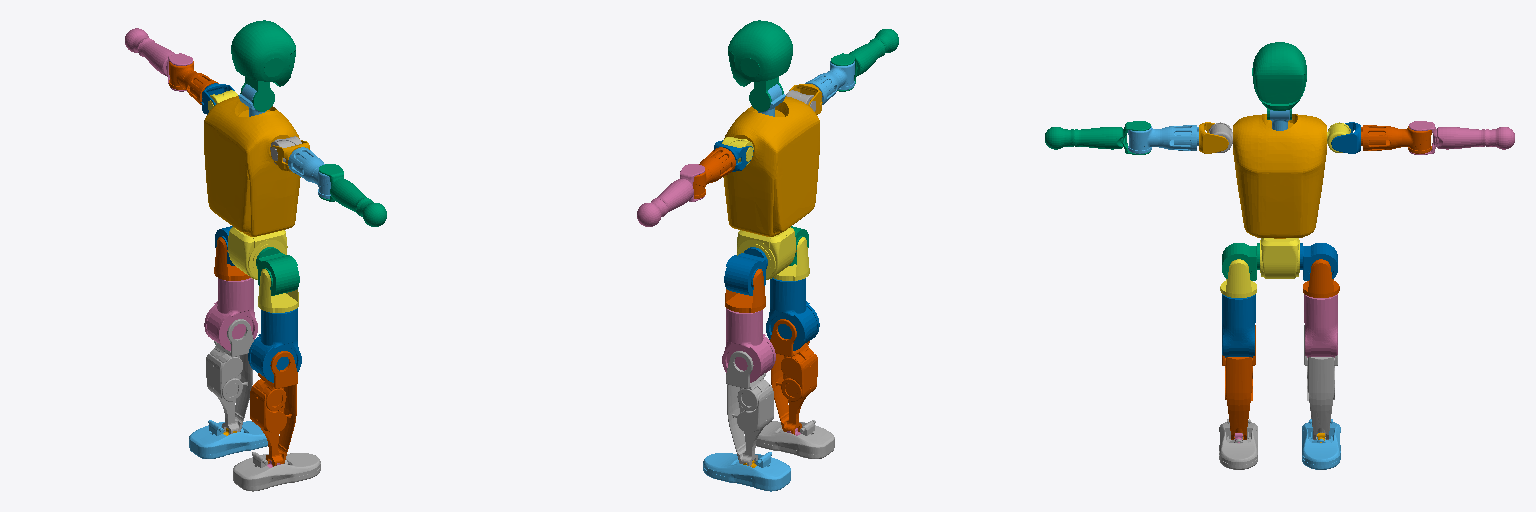
URDF robot description (t1):
<?xml version="1.0"?>

<robot name="t1">
	<link name="Trunk">
		<inertial>
			<origin xyz="0.0551365401093076 -1.42058017623659E-06 0.105062332707657"/>
			<mass value="11.7"/>
			<inertia
					ixx="0.0915287235057927"
					ixy="-4.25369739206781E-07"
					ixz="0.000646360369011163"
					iyy="0.076778716903413"
					iyz="5.82340020271393E-07"
					izz="0.0556171053368987"/>
		</inertial>
		<visual>
			<geometry>
				<mesh filename="../meshes/Trunk.obj"/>
			</geometry>
		</visual>
		<collision>
			<origin xyz="0.06 0 0.12"/>
			<geometry>
				<box size="0.15 0.2 0.3"/>
			</geometry>
		</collision>
	</link>
	<link name="H1">
		<inertial>
			<origin xyz="-0.000508 -0.001403 0.057432"/>
			<mass value="0.443910"/>
			<inertia
					ixx="0.000224"
					ixy="0.000003"
					ixz="0.000001"
					iyy="0.000241"
					iyz="-0.000002"
					izz="0.000150"/>
		</inertial>
		<visual>
			<geometry>
				<mesh filename="../meshes/H1.obj"/>
			</geometry>
		</visual>
	</link>
	<joint name="AAHead_yaw" type="revolute">
		<origin xyz="0.0625 0 0.243"/>
		<parent link="Trunk"/>
		<child link="H1"/>
		<axis xyz="0 0 1"/>
		<limit lower="-1.57" upper="1.57" effort="7" velocity="12.56"/>
	</joint>
	<link name="H2">
		<inertial>
			<origin xyz="0.007802 0.001262 0.098631"/>
			<mass value="0.631019"/>
			<inertia
					ixx="0.002025"
					ixy="-0.000025"
					ixz="0.000046"
					iyy="0.001920"
					iyz="0.000036"
					izz="0.001739"/>
		</inertial>
		<visual>
			<geometry>
				<mesh filename="../meshes/H2.obj"/>
			</geometry>
		</visual>
		<collision>
			<origin xyz="0.01 0 0.11"/>
			<geometry>
				<sphere radius="0.08"/>
			</geometry>
		</collision>
	</link>
	<joint name="Head_pitch" type="revolute">
		<origin xyz="0 0 0.06185"/>
		<parent link="H1"/>
		<child link="H2"/>
		<axis xyz="0 1 0"/>
		<limit lower="-0.35" upper="1.22" effort="7" velocity="12.56"/>
	</joint>
	<link name="AL1">
		<inertial>
			<origin xyz="-0.000677 0.044974 0.000000"/>
			<mass value="0.53"/>
			<inertia
					ixx="0.001293"
					ixy="-0.000017"
					ixz="0.000000"
					iyy="0.000293"
					iyz="0.000000"
					izz="0.001367"/>
		</inertial>
		<visual>
			<geometry>
				<mesh filename="../meshes/AL1.obj"/>
			</geometry>
		</visual>
	</link>
	<joint name="Left_Shoulder_Pitch" type="revolute">
		<origin xyz="0.0575 0.1063 0.219" rpy="0 0.00088113 0"/>
		<parent link="Trunk"/>
		<child link="AL1"/>
		<axis xyz="0 1 0"/>
		<limit lower="-3.31" upper="1.22" effort="18" velocity="18.84"/>
	</joint>
	<link name="AL2">
		<inertial>
			<origin xyz="0.003862 0.037976 0.000000"/>
			<mass value="0.160"/>
			<inertia
					ixx="0.000345"
					ixy="0.000008"
					ixz="0.000000"
					iyy="0.000177"
					iyz="0.000000"
					izz="0.000401"/>
		</inertial>
		<visual>
			<geometry>
				<mesh filename="../meshes/AL2.obj"/>
			</geometry>
		</visual>
	</link>
	<joint name="Left_Shoulder_Roll" type="revolute">
		<origin xyz="0 0.047 0"/>
		<parent link="AL1"/>
		<child link="AL2"/>
		<axis xyz="1 0 0"/>
		<limit lower="-1.74" upper="1.57" effort="18" velocity="18.84"/>
	</joint>
	<link name="AL3">
		<inertial>
			<origin xyz="0.000000 0.085353 -0.000099"/>
			<mass value="1.02"/>
			<inertia
					ixx="0.012869"
					ixy="0.000000"
					ixz="0.000000"
					iyy="0.000621"
					iyz="-0.000024"
					izz="0.012798"/>
		</inertial>
		<visual>
			<geometry>
				<mesh filename="../meshes/AL3.obj"/>
			</geometry>
		</visual>
		<collision>
			<origin xyz="0 0.05 0" rpy="1.5708 0 0"/>
			<geometry>
				<cylinder radius="0.03" length="0.15"/>
			</geometry>
		</collision>
	</link>
	<joint name="Left_Elbow_Pitch" type="revolute">
		<origin xyz="0.00025 0.0605 0"/>
		<parent link="AL2"/>
		<child link="AL3"/>
		<axis xyz="0 1 0"/>
		<limit lower="-2.27" upper="2.27" effort="18" velocity="18.84"/>
	</joint>
	<link name="left_hand_link">
		<inertial>
			<origin xyz="-0.000108 0.109573 0.000591"/>
			<mass value="0.327214390850251"/>
			<inertia
					ixx="0.008159"
					ixy="-0.000003"
					ixz="0.000000"
					iyy="0.000215"
					iyz="0.000017"
					izz="0.008131"/>
		</inertial>
		<visual>
			<geometry>
				<mesh filename="../meshes/Left_hand.obj"/>
			</geometry>
		</visual>
		<collision>
			<origin xyz="0 0.13 0" rpy="1.5708 0 0"/>
			<geometry>
				<cylinder radius="0.03" length="0.175"/>
			</geometry>
		</collision>
	</link>
	<joint name="Left_Elbow_Yaw" type="revolute">
		<origin xyz="0 0.1471 0"/>
		<parent link="AL3"/>
		<child link="left_hand_link"/>
		<axis xyz="0 0 1"/>
		<limit lower="-2.44" upper="0" effort="18" velocity="18.84"/>
	</joint>
	<link name="AR1">
		<inertial>
			<origin xyz="-0.000677 -0.044974 0.000000"/>
			<mass value="0.53"/>
			<inertia
					ixx="0.001293"
					ixy="-0.000017"
					ixz="0.000000"
					iyy="0.000293"
					iyz="0.000000"
					izz="0.001367"/>
		</inertial>
		<visual>
			<geometry>
				<mesh filename="../meshes/AR1.obj"/>
			</geometry>
		</visual>
	</link>
	<joint name="Right_Shoulder_Pitch" type="revolute">
		<origin xyz="0.0575 -0.1063 0.219" rpy="0 0.00088113 0"/>
		<parent link="Trunk"/>
		<child link="AR1"/>
		<axis xyz="0 1 0"/>
		<limit lower="-3.31" upper="1.22" effort="18" velocity="18.84"/>
	</joint>
	<link name="AR2">
		<inertial>
			<origin xyz="0.003862 -0.037976 0.000000"/>
			<mass value="0.160"/>
			<inertia
					ixx="0.000345"
					ixy="-0.000008"
					ixz="0.000000"
					iyy="0.000177"
					iyz="0.000000"
					izz="0.000401"/>
		</inertial>
		<visual>
			<geometry>
				<mesh filename="../meshes/AR2.obj"/>
			</geometry>
		</visual>
	</link>
	<joint name="Right_Shoulder_Roll" type="revolute">
		<origin xyz="0 -0.047 0"/>
		<parent link="AR1"/>
		<child link="AR2"/>
		<axis xyz="1 0 0"/>
		<limit lower="-1.57" upper="1.74" effort="18" velocity="18.84"/>
	</joint>
	<link name="AR3">
		<inertial>
			<origin xyz="0.000000 -0.085353 -0.000099"/>
			<mass value="1.02"/>
			<inertia
					ixx="0.012869"
					ixy="0.000000"
					ixz="0.000000"
					iyy="0.000621"
					iyz="0.000024"
					izz="0.012798"/>
		</inertial>
		<visual>
			<geometry>
				<mesh filename="../meshes/AR3.obj"/>
			</geometry>
		</visual>
		<collision>
			<origin xyz="0 -0.05 0" rpy="1.5708 0 0"/>
			<geometry>
				<cylinder radius="0.03" length="0.15"/>
			</geometry>
		</collision>
	</link>
	<joint name="Right_Elbow_Pitch" type="revolute">
		<origin xyz="0.00025 -0.0605 0"/>
		<parent link="AR2"/>
		<child link="AR3"/>
		<axis xyz="0 1 0"/>
		<limit lower="-2.27" upper="2.27" effort="18" velocity="18.84"/>
	</joint>
	<link name="right_hand_link">
		<inertial>
			<origin xyz="-0.000108 -0.109573 0.000591"/>
			<mass value="0.327214390850251"/>
			<inertia
					ixx="0.008159"
					ixy="0.000003"
					ixz="0.000000"
					iyy="0.000215"
					iyz="-0.000017"
					izz="0.008131"/>
		</inertial>
		<visual>
			<geometry>
				<mesh filename="../meshes/Right_hand.obj"/>
			</geometry>
		</visual>
		<collision>
			<origin xyz="0 -0.13 0" rpy="1.5708 0 0"/>
			<geometry>
				<cylinder radius="0.03" length="0.175"/>
			</geometry>
		</collision>
	</link>
	<joint name="Right_Elbow_Yaw" type="revolute">
		<origin xyz="0 -0.1471 0"/>
		<parent link="AR3"/>
		<child link="right_hand_link"/>
		<axis xyz="0 0 1"/>
		<limit lower="0" upper="2.44" effort="18" velocity="18.84"/>
	</joint>
	<link name="Waist">
		<inertial>
			<origin xyz="0.002284 0.000003 0.007301"/>
			<mass value="2.581"/>
			<inertia
					ixx="0.005289"
					ixy="0.000000"
					ixz="0.000207"
					iyy="0.005299"
					iyz="0.000001"
					izz="0.004821"/>
		</inertial>
		<visual>
			<geometry>
				<mesh filename="../meshes/Waist.obj"/>
			</geometry>
		</visual>
	</link>
	<joint name="Waist" type="revolute">
		<origin xyz="0.0625 0 -0.1155"/>
		<parent link="Trunk"/>
		<child link="Waist"/>
		<axis xyz="0 0 1"/>
		<limit lower="-1.57" upper="1.57" effort="30" velocity="10.88"/>
	</joint>
	<link name="Hip_Pitch_Left">
		<inertial>
			<origin xyz="0.000534 -0.007296 -0.018083"/>
			<mass value="1.021"/>
			<inertia
					ixx="0.001805"
					ixy="0.000006"
					ixz="-0.000015"
					iyy="0.001421"
					iyz="0.000080"
					izz="0.001292"/>
		</inertial>
		<visual>
			<geometry>
				<mesh filename="../meshes/Hip_pitch_left.obj"/>
			</geometry>
		</visual>
	</link>
	<joint name="Left_Hip_Pitch" type="revolute">
		<origin xyz="0 0.106 0"/>
		<parent link="Waist"/>
		<child link="Hip_Pitch_Left"/>
		<axis xyz="0 1 0"/>
		<limit lower="-1.8" upper="1.57" effort="45" velocity="12.5"/>
	</joint>
	<link name="Hip_Roll_Left">
		<inertial>
			<origin xyz="0.001101 0.000024 -0.053750"/>
			<mass value="0.385"/>
			<inertia
					ixx="0.001517"
					ixy="0.000000"
					ixz="0.000017"
					iyy="0.001743"
					iyz="0.000000"
					izz="0.000515"/>
		</inertial>
		<visual>
			<geometry>
				<mesh filename="../meshes/Hip_roll_left.obj"/>
			</geometry>
		</visual>
	</link>
	<joint name="Left_Hip_Roll" type="revolute">
		<origin xyz="0 0 -0.02"/>
		<parent link="Hip_Pitch_Left"/>
		<child link="Hip_Roll_Left"/>
		<axis xyz="1 0 0"/>
		<limit lower="-0.2" upper="1.57" effort="30" velocity="10.9"/>
	</joint>
	<link name="Hip_Yaw_Left">
		<inertial>
			<origin xyz="-0.007233 0.000206 -0.089184"/>
			<mass value="2.166"/>
			<inertia
					ixx="0.025108"
					ixy="-0.000007"
					ixz="0.002094"
					iyy="0.025733"
					iyz="-0.000050"
					izz="0.002787"/>
		</inertial>
		<visual>
			<geometry>
				<mesh filename="../meshes/Hip_yaw.obj"/>
			</geometry>
		</visual>
		<collision>
			<origin xyz="0 0 0"/>
			<geometry>
				<cylinder radius="0.05" length="0.16"/>
			</geometry>
		</collision>
	</link>
	<joint name="Left_Hip_Yaw" type="revolute">
		<origin xyz="0 0 -0.081854"/>
		<parent link="Hip_Roll_Left"/>
		<child link="Hip_Yaw_Left"/>
		<axis xyz="0 0 1"/>
		<limit lower="-1" upper="1" effort="30" velocity="10.9"/>
	</joint>
	<link name="Shank_Left">
		<inertial>
			<origin xyz="-0.006012 0.000259 -0.124318"/>
			<mass value="1.73"/>
			<inertia
					ixx="0.034618"
					ixy="0.000011"
					ixz="0.001561"
					iyy="0.034539"
					iyz="0.000197"
					izz="0.001934"/>
		</inertial>
		<visual>
			<geometry>
				<mesh filename="../meshes/Shank_left.obj"/>
			</geometry>
		</visual>
		<collision>
			<origin xyz="0 0 -0.12"/>
			<geometry>
				<cylinder radius="0.05" length="0.15"/>
			</geometry>
		</collision>
	</link>
	<joint name="Left_Knee_Pitch" type="revolute">
		<origin xyz="-0.014 0 -0.134"/>
		<parent link="Hip_Yaw_Left"/>
		<child link="Shank_Left"/>
		<axis xyz="0 1 0"/>
		<limit lower="0" upper="2.34" effort="60" velocity="11.7"/>
	</joint>
	<link name="Ankle_Cross_Left">
		<inertial>
			<origin xyz="-0.003722 0.000000 -0.007981"/>
			<mass value="0.073"/>
			<inertia
					ixx="0.000012"
					ixy="0.000000"
					ixz="0.000003"
					iyy="0.000029"
					iyz="0.000000"
					izz="0.000025"/>
		</inertial>
		<visual>
			<geometry>
				<mesh filename="../meshes/Ankle_cross_left.obj"/>
			</geometry>
		</visual>
	</link>
	<joint name="Left_Ankle_Pitch" type="revolute">
		<origin xyz="0 0 -0.28"/>
		<parent link="Shank_Left"/>
		<child link="Ankle_Cross_Left"/>
		<axis xyz="0 1 0"/>
		<limit lower="-0.87" upper="0.35" effort="20" velocity="18.8"/>
	</joint>
	<link name="left_foot_link">
		<inertial>
			<origin xyz="-0.000249 0.000000 -0.009140"/>
			<mass value="0.685"/>
			<inertia
					ixx="0.002214"
					ixy="0"
					ixz="-0.000114"
					iyy="0.002385"
					iyz="0"
					izz="0.002671"/>
		</inertial>
		<visual>
			<geometry>
				<mesh filename="../meshes/Foot_link.obj"/>
			</geometry>
		</visual>
		<collision>
			<origin xyz="0.01 0 -0.015"/>
			<geometry>
				<box size="0.223 0.1 0.03"/>
			</geometry>
		</collision>
	</link>
	<joint name="Left_Ankle_Roll" type="revolute">
		<origin xyz="0 0.00025 -0.012"/>
		<parent link="Ankle_Cross_Left"/>
		<child link="left_foot_link"/>
		<axis xyz="1 0 0"/>
		<limit lower="-0.44" upper="0.44" effort="15" velocity="12.4"/>
	</joint>
	<link name="Hip_Pitch_Right">
		<inertial>
			<origin xyz="0.000534 0.007514 -0.018082"/>
			<mass value="1.021"/>
			<inertia
					ixx="0.001805"
					ixy="-0.000008"
					ixz="-0.000015"
					iyy="0.001421"
					iyz="-0.000085"
					izz="0.001292"/>
		</inertial>
		<visual>
			<geometry>
				<mesh filename="../meshes/Hip_pitch_right.obj"/>
			</geometry>
		</visual>
	</link>
	<joint name="Right_Hip_Pitch" type="revolute">
		<origin xyz="0 -0.106 0"/>
		<parent link="Waist"/>
		<child link="Hip_Pitch_Right"/>
		<axis xyz="0 1 0"/>
		<limit lower="-1.8" upper="1.57" effort="45" velocity="12.5"/>
	</joint>
	<link name="Hip_Roll_Right">
		<inertial>
			<origin xyz="0.001099 0.000024 -0.053748"/>
			<mass value="0.385"/>
			<inertia
					ixx="0.001517"
					ixy="0.000000"
					ixz="0.000017"
					iyy="0.001743"
					iyz="0.000000"
					izz="0.000515"/>
		</inertial>
		<visual>
			<geometry>
				<mesh filename="../meshes/Hip_roll_right.obj"/>
			</geometry>
		</visual>
	</link>
	<joint name="Right_Hip_Roll" type="revolute">
		<origin xyz="0 0 -0.02"/>
		<parent link="Hip_Pitch_Right"/>
		<child link="Hip_Roll_Right"/>
		<axis xyz="1 0 0"/>
		<limit lower="-1.57" upper="0.2" effort="30" velocity="10.9"/>
	</joint>
	<link name="Hip_Yaw_Right">
		<inertial>
			<origin xyz="-0.007191 -0.000149 -0.089220"/>
			<mass value="2.17"/>
			<inertia
					ixx="0.025137"
					ixy="0.000006"
					ixz="0.002086"
					iyy="0.025762"
					iyz="0.000044"
					izz="0.002787"/>
		</inertial>
		<visual>
			<geometry>
				<mesh filename="../meshes/Hip_yaw.obj"/>
			</geometry>
		</visual>
		<collision>
			<origin xyz="0 0 0"/>
			<geometry>
				<cylinder radius="0.05" length="0.16"/>
			</geometry>
		</collision>
	</link>
	<joint name="Right_Hip_Yaw" type="revolute">
		<origin xyz="0 0 -0.081854"/>
		<parent link="Hip_Roll_Right"/>
		<child link="Hip_Yaw_Right"/>
		<axis xyz="0 0 1"/>
		<limit lower="-1" upper="1" effort="30" velocity="10.9"/>
	</joint>
	<link name="Shank_Right">
		<inertial>
			<origin xyz="-0.005741 -0.000541 -0.122602"/>
			<mass value="1.79"/>
			<inertia
					ixx="0.035098"
					ixy="-0.000009"
					ixz="0.001554"
					iyy="0.034958"
					iyz="-0.000086"
					izz="0.002039"/>
		</inertial>
		<visual>
			<geometry>
				<mesh filename="../meshes/Shank_right.obj"/>
			</geometry>
		</visual>
		<collision>
			<origin xyz="0 0 -0.12"/>
			<geometry>
				<cylinder radius="0.05" length="0.15"/>
			</geometry>
		</collision>
	</link>
	<joint name="Right_Knee_Pitch" type="revolute">
		<origin xyz="-0.014 0 -0.134"/>
		<parent link="Hip_Yaw_Right"/>
		<child link="Shank_Right"/>
		<axis xyz="0 1 0"/>
		<limit lower="0" upper="2.34" effort="60" velocity="11.7"/>
	</joint>
	<link name="Ankle_Cross_Right">
		<inertial>
			<origin xyz="-0.003722 0.000000 -0.007981"/>
			<mass value="0.073"/>
			<inertia
					ixx="0.000012"
					ixy="0.000000"
					ixz="0.000003"
					iyy="0.000029"
					iyz="0.000000"
					izz="0.000025"/>
		</inertial>
		<visual>
			<geometry>
				<mesh filename="../meshes/Ankle_cross_right.obj"/>
			</geometry>
		</visual>
	</link>
	<joint name="Right_Ankle_Pitch" type="revolute">
		<origin xyz="0 0 -0.28"/>
		<parent link="Shank_Right"/>
		<child link="Ankle_Cross_Right"/>
		<axis xyz="0 1 0"/>
		<limit lower="-0.87" upper="0.35" effort="20" velocity="18.8"/>
	</joint>
	<link name="right_foot_link">
		<inertial>
			<origin xyz="-0.000248 0.000000 -0.009140"/>
			<mass value="0.685"/>
			<inertia
					ixx="0.002214"
					ixy="0"
					ixz="-0.000114"
					iyy="0.002385"
					iyz="0"
					izz="0.002671"/>
		</inertial>
		<visual>
			<geometry>
				<mesh filename="../meshes/Foot_link.obj"/>
			</geometry>
		</visual>
		<collision>
			<origin xyz="0.01 0 -0.015"/>
			<geometry>
				<box size="0.223 0.1 0.03"/>
			</geometry>
		</collision>
	</link>
	<joint name="Right_Ankle_Roll" type="revolute">
		<origin xyz="0 -0.00025 -0.012"/>
		<parent link="Ankle_Cross_Right"/>
		<child link="right_foot_link"/>
		<axis xyz="1 0 0"/>
		<limit lower="-0.44" upper="0.44" effort="15" velocity="12.4"/>
	</joint>
</robot>

--- What the picture shows (computed from the rendered views, not written in the file) ---
3 views of the same robot in one strip: view 1: azimuth 30°, elevation 25°; view 2: azimuth 150°, elevation 25°; view 3: azimuth 270°, elevation 25° (orthographic).
Robot: t1 — 24 links, 23 joints (23 revolute); root link Trunk; default pose: all joints at 0.
Links seen in each view (by area): view 1: Trunk, H2, Shank_Right, Shank_Left, Hip_Yaw_Left, Hip_Yaw_Right, right_foot_link, left_foot_link, right_hand_link, Waist, Hip_Pitch_Right, left_hand_link (+4 smaller); view 2: Trunk, H2, Shank_Left, Shank_Right, Hip_Yaw_Right, Hip_Yaw_Left, left_foot_link, right_foot_link, left_hand_link, Waist, Hip_Pitch_Left, right_hand_link (+4 smaller); view 3: Trunk, H2, Shank_Left, Shank_Right, Hip_Yaw_Left, Hip_Yaw_Right, left_hand_link, right_hand_link, AL3, AR3, Waist, left_foot_link (+7 smaller).
Boxes of the visible links, x1,y1,x2,y2 form: Trunk: [204, 96, 300, 236]; H2: [231, 20, 295, 111]; Shank_Right: [250, 351, 297, 466]; Shank_Left: [206, 319, 253, 434]; Hip_Yaw_Left: [204, 278, 257, 350]; Hip_Yaw_Right: [248, 308, 301, 382]; right_foot_link: [233, 452, 320, 491]; left_foot_link: [189, 420, 267, 458]; right_hand_link: [319, 164, 386, 226]; Waist: [228, 227, 287, 279]; Hip_Pitch_Right: [256, 247, 299, 295]; left_hand_link: [125, 28, 192, 91]; Trunk: [723, 96, 819, 236]; H2: [728, 20, 792, 111]; Shank_Left: [726, 351, 773, 466]; Shank_Right: [770, 319, 817, 434]; Hip_Yaw_Right: [766, 278, 819, 350]; Hip_Yaw_Left: [722, 308, 775, 382]; left_foot_link: [703, 452, 790, 491]; right_foot_link: [756, 420, 834, 458]; left_hand_link: [637, 164, 704, 226]; Waist: [737, 227, 795, 279]; Hip_Pitch_Left: [724, 247, 767, 295]; right_hand_link: [831, 29, 898, 91]; Trunk: [1233, 114, 1326, 238]; H2: [1252, 42, 1306, 119]; Shank_Left: [1304, 325, 1337, 439]; Shank_Right: [1222, 325, 1255, 439]; Hip_Yaw_Left: [1304, 294, 1337, 357]; Hip_Yaw_Right: [1222, 294, 1255, 357]; left_hand_link: [1409, 121, 1514, 154]; right_hand_link: [1045, 121, 1150, 154]; AL3: [1361, 125, 1431, 153]; AR3: [1128, 125, 1198, 153]; Waist: [1260, 238, 1299, 278]; left_foot_link: [1302, 419, 1340, 469].
Bounding box of the posed robot: 0.2249 × 1.21 × 1.17 m (x, y, z).
24 mesh visuals loaded from 22 distinct referenced files (22 OBJ).